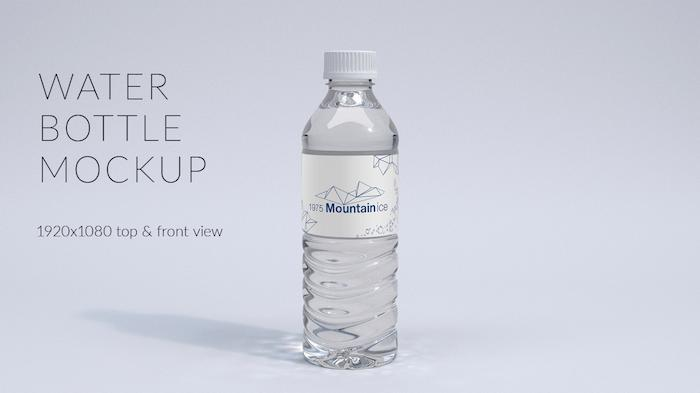bottle: (293, 42, 421, 376)
